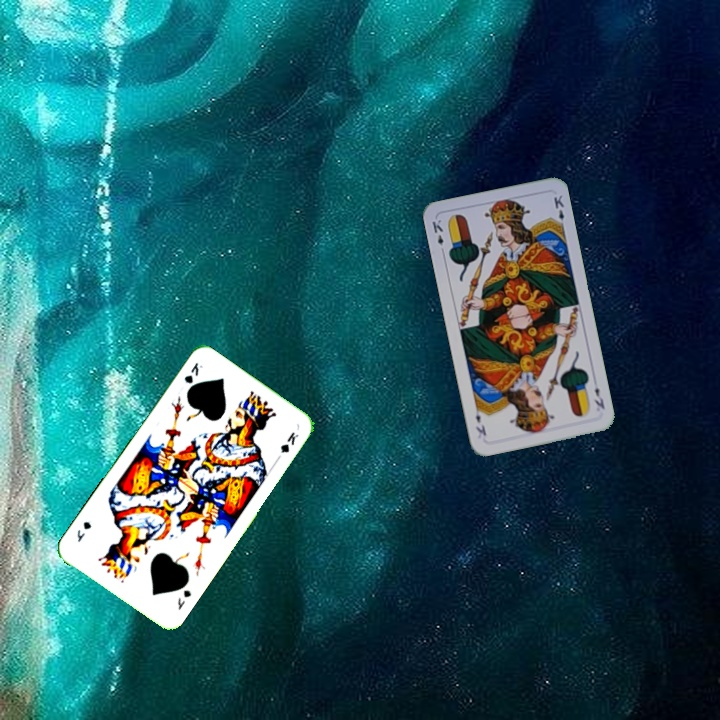EK: (428, 215, 447, 256), (590, 383, 607, 412)
GK: (180, 358, 205, 386), (173, 586, 194, 613)
